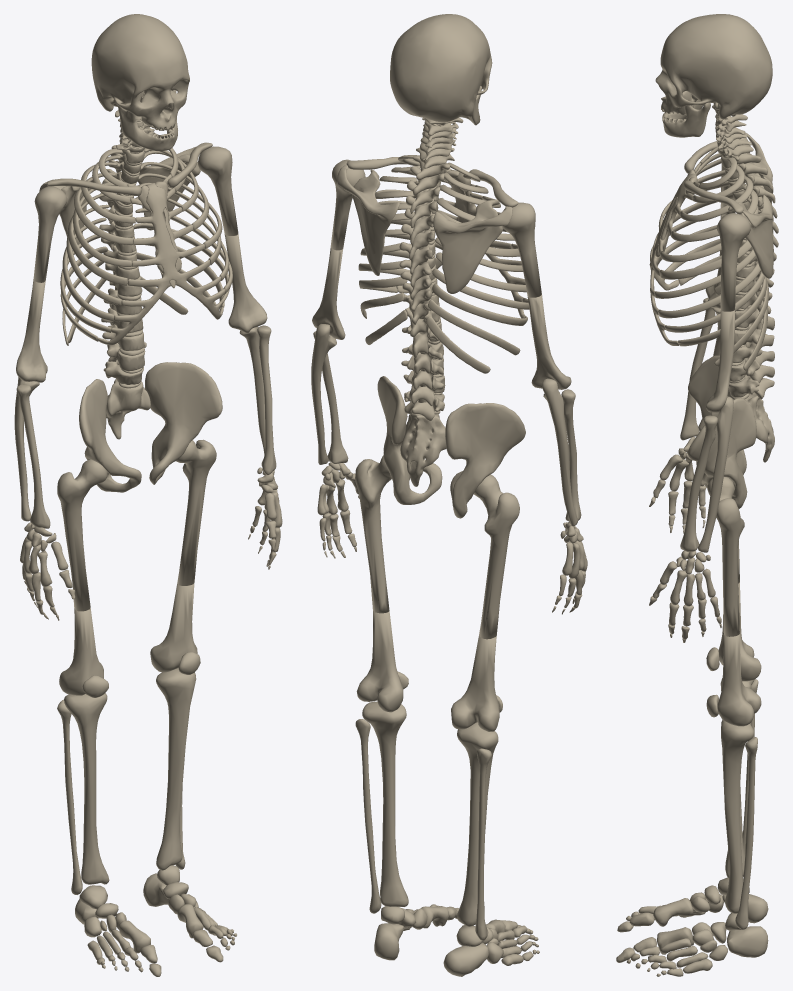
Rendered from pediatric_adolescent_male.skeletal.LOD0.glb.
The picture shows the model from 3 angles, left to right: view 1: azimuth 30°, elevation 25°; view 2: azimuth 150°, elevation 25°; view 3: azimuth 270°, elevation 25°; orthographic projection. The views are drawn at different scales.
Parts seen in each view (by area): view 1: PEDIATRIC.ADOLESCENT.MALE.SKELETAL.RIBS_CORTICAL, PEDIATRIC.ADOLESCENT.MALE.SKELETAL.CRANIUM_CORTICAL, PEDIATRIC.ADOLESCENT.MALE.SKELETAL.PELVIS_CORTICAL, PEDIATRIC.ADOLESCENT.MALE.SKELETAL.TIBIAE_CORTICAL, PEDIATRIC.ADOLESCENT.MALE.SKELETAL.ANKLES_AND_FOOT_CORTICAL, PEDIATRIC.ADOLESCENT.MALE.SKELETAL.FEMORA_UPPER_CORTICAL, PEDIATRIC.ADOLESCENT.MALE.SKELETAL.CARTILAGE_TRUNK, PEDIATRIC.ADOLESCENT.MALE.SKELETAL.FEMORA_LOWER_CORTICAL, PEDIATRIC.ADOLESCENT.MALE.SKELETAL.WRISTS_AND_HAND_BONES_COR, PEDIATRIC.ADOLESCENT.MALE.SKELETAL.HUMERI_LOWER_CORTICAL, PEDIATRIC.ADOLESCENT.MALE.SKELETAL.HUMERI_UPPER_CORTICAL, PEDIATRIC.ADOLESCENT.MALE.SKELETAL.RADII_CORTICAL (+10 smaller); view 2: PEDIATRIC.ADOLESCENT.MALE.SKELETAL.RIBS_CORTICAL, PEDIATRIC.ADOLESCENT.MALE.SKELETAL.CRANIUM_CORTICAL, PEDIATRIC.ADOLESCENT.MALE.SKELETAL.PELVIS_CORTICAL, PEDIATRIC.ADOLESCENT.MALE.SKELETAL.TIBIAE_CORTICAL, PEDIATRIC.ADOLESCENT.MALE.SKELETAL.FEMORA_UPPER_CORTICAL, PEDIATRIC.ADOLESCENT.MALE.SKELETAL.SCAPULAE_CORTICAL, PEDIATRIC.ADOLESCENT.MALE.SKELETAL.ANKLES_AND_FOOT_CORTICAL, PEDIATRIC.ADOLESCENT.MALE.SKELETAL.FEMORA_LOWER_CORTICAL, PEDIATRIC.ADOLESCENT.MALE.SKELETAL.THORACIC_SPINE_CORTICAL, PEDIATRIC.ADOLESCENT.MALE.SKELETAL.WRISTS_AND_HAND_BONES_COR, PEDIATRIC.ADOLESCENT.MALE.SKELETAL.ULNAE_CORTICAL, PEDIATRIC.ADOLESCENT.MALE.SKELETAL.HUMERI_UPPER_CORTICAL (+8 smaller); view 3: PEDIATRIC.ADOLESCENT.MALE.SKELETAL.CRANIUM_CORTICAL, PEDIATRIC.ADOLESCENT.MALE.SKELETAL.RIBS_CORTICAL, PEDIATRIC.ADOLESCENT.MALE.SKELETAL.ANKLES_AND_FOOT_CORTICAL, PEDIATRIC.ADOLESCENT.MALE.SKELETAL.WRISTS_AND_HAND_BONES_COR, PEDIATRIC.ADOLESCENT.MALE.SKELETAL.PELVIS_CORTICAL, PEDIATRIC.ADOLESCENT.MALE.SKELETAL.TIBIAE_CORTICAL, PEDIATRIC.ADOLESCENT.MALE.SKELETAL.FEMORA_LOWER_CORTICAL, PEDIATRIC.ADOLESCENT.MALE.SKELETAL.FEMORA_UPPER_CORTICAL, PEDIATRIC.ADOLESCENT.MALE.SKELETAL.RADII_CORTICAL, PEDIATRIC.ADOLESCENT.MALE.SKELETAL.LUMBAR_SPINE_CORTICAL, PEDIATRIC.ADOLESCENT.MALE.SKELETAL.THORACIC_SPINE_CORTICAL, PEDIATRIC.ADOLESCENT.MALE.SKELETAL.CARTILAGE_TRUNK (+10 smaller).
Boxes of the visible parts, x1,y1,x2,y2 form: PEDIATRIC.ADOLESCENT.MALE.SKELETAL.RIBS_CORTICAL: [60, 148, 232, 345]; PEDIATRIC.ADOLESCENT.MALE.SKELETAL.CRANIUM_CORTICAL: [91, 14, 189, 130]; PEDIATRIC.ADOLESCENT.MALE.SKELETAL.PELVIS_CORTICAL: [79, 362, 222, 492]; PEDIATRIC.ADOLESCENT.MALE.SKELETAL.TIBIAE_CORTICAL: [64, 668, 196, 884]; PEDIATRIC.ADOLESCENT.MALE.SKELETAL.ANKLES_AND_FOOT_CORTICAL: [75, 865, 236, 976]; PEDIATRIC.ADOLESCENT.MALE.SKELETAL.FEMORA_UPPER_CORTICAL: [57, 439, 216, 611]; PEDIATRIC.ADOLESCENT.MALE.SKELETAL.CARTILAGE_TRUNK: [97, 119, 225, 388]; PEDIATRIC.ADOLESCENT.MALE.SKELETAL.FEMORA_LOWER_CORTICAL: [59, 583, 197, 695]; PEDIATRIC.ADOLESCENT.MALE.SKELETAL.WRISTS_AND_HAND_BONES_COR: [20, 467, 282, 620]; PEDIATRIC.ADOLESCENT.MALE.SKELETAL.HUMERI_LOWER_CORTICAL: [16, 234, 267, 382]; PEDIATRIC.ADOLESCENT.MALE.SKELETAL.HUMERI_UPPER_CORTICAL: [33, 146, 238, 282]; PEDIATRIC.ADOLESCENT.MALE.SKELETAL.RADII_CORTICAL: [16, 325, 276, 528]; PEDIATRIC.ADOLESCENT.MALE.SKELETAL.RIBS_CORTICAL: [358, 155, 529, 373]; PEDIATRIC.ADOLESCENT.MALE.SKELETAL.CRANIUM_CORTICAL: [390, 14, 492, 121]; PEDIATRIC.ADOLESCENT.MALE.SKELETAL.PELVIS_CORTICAL: [377, 376, 525, 518]; PEDIATRIC.ADOLESCENT.MALE.SKELETAL.TIBIAE_CORTICAL: [362, 701, 498, 926]; PEDIATRIC.ADOLESCENT.MALE.SKELETAL.FEMORA_UPPER_CORTICAL: [355, 455, 519, 639]; PEDIATRIC.ADOLESCENT.MALE.SKELETAL.SCAPULAE_CORTICAL: [337, 165, 512, 293]; PEDIATRIC.ADOLESCENT.MALE.SKELETAL.ANKLES_AND_FOOT_CORTICAL: [374, 904, 539, 976]; PEDIATRIC.ADOLESCENT.MALE.SKELETAL.FEMORA_LOWER_CORTICAL: [356, 611, 499, 731]; PEDIATRIC.ADOLESCENT.MALE.SKELETAL.THORACIC_SPINE_CORTICAL: [399, 156, 450, 336]; PEDIATRIC.ADOLESCENT.MALE.SKELETAL.WRISTS_AND_HAND_BONES_COR: [317, 462, 587, 614]; PEDIATRIC.ADOLESCENT.MALE.SKELETAL.ULNAE_CORTICAL: [311, 324, 577, 526]; PEDIATRIC.ADOLESCENT.MALE.SKELETAL.HUMERI_UPPER_CORTICAL: [330, 159, 541, 297]; PEDIATRIC.ADOLESCENT.MALE.SKELETAL.CRANIUM_CORTICAL: [655, 14, 772, 119]; PEDIATRIC.ADOLESCENT.MALE.SKELETAL.RIBS_CORTICAL: [654, 146, 769, 370]; PEDIATRIC.ADOLESCENT.MALE.SKELETAL.ANKLES_AND_FOOT_CORTICAL: [616, 877, 768, 976]; PEDIATRIC.ADOLESCENT.MALE.SKELETAL.WRISTS_AND_HAND_BONES_COR: [649, 437, 721, 642]; PEDIATRIC.ADOLESCENT.MALE.SKELETAL.PELVIS_CORTICAL: [687, 355, 756, 508]; PEDIATRIC.ADOLESCENT.MALE.SKELETAL.TIBIAE_CORTICAL: [720, 678, 754, 913]; PEDIATRIC.ADOLESCENT.MALE.SKELETAL.FEMORA_LOWER_CORTICAL: [717, 582, 761, 726]; PEDIATRIC.ADOLESCENT.MALE.SKELETAL.FEMORA_UPPER_CORTICAL: [707, 477, 744, 636]; PEDIATRIC.ADOLESCENT.MALE.SKELETAL.RADII_CORTICAL: [680, 297, 717, 551]; PEDIATRIC.ADOLESCENT.MALE.SKELETAL.LUMBAR_SPINE_CORTICAL: [728, 305, 774, 399]; PEDIATRIC.ADOLESCENT.MALE.SKELETAL.THORACIC_SPINE_CORTICAL: [721, 153, 778, 313]; PEDIATRIC.ADOLESCENT.MALE.SKELETAL.CARTILAGE_TRUNK: [650, 118, 751, 399].
Size of the model in its own units: 0.4786 by 1.66 by 0.2627.
